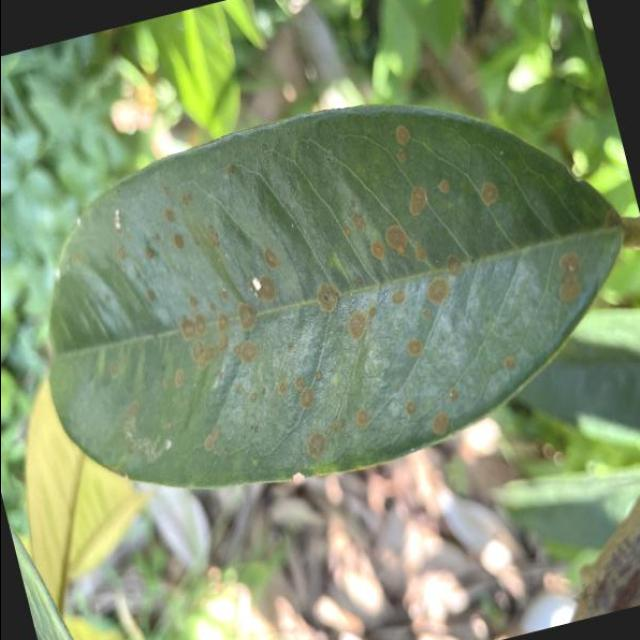Algal Leaf Spot: (0, 33, 640, 549)
